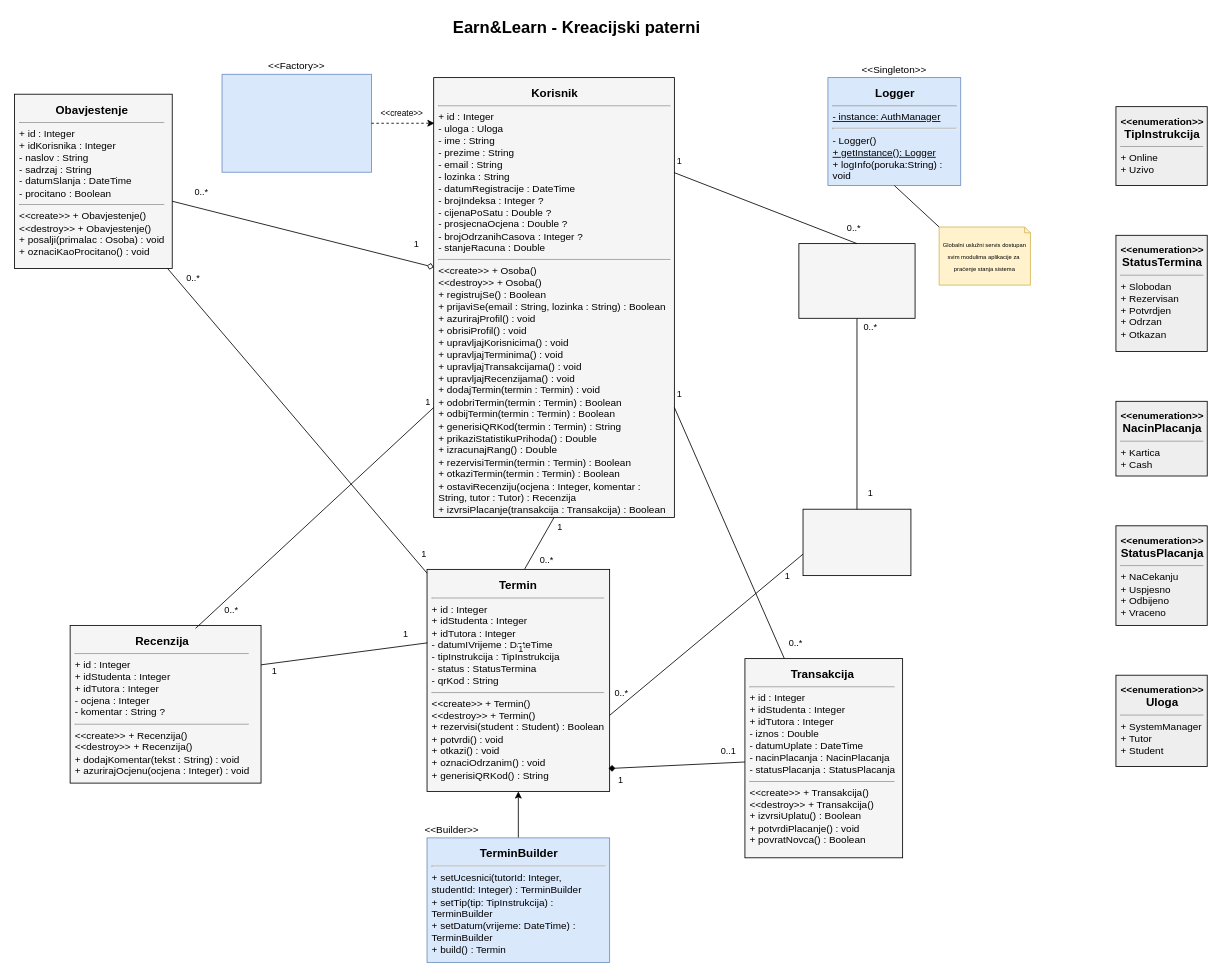
This 1222x977 diagram has some shape labels left out. The shapes that lost their labels are listed below. From the top down, each one's box as (x1, y1, x2, y2) in pixels, then its label:
(221, 73, 371, 172): KorisnikFactory + kreirajKorisnika(uloga:Uloga, podaci:String) : Korisnik
(798, 243, 915, 318): Korisnik / Predmet +id : Integer + idKorisnika : Integer + idPredmeta : Integer
(802, 508, 911, 576): Predmet + id : Integer - naziv : String
